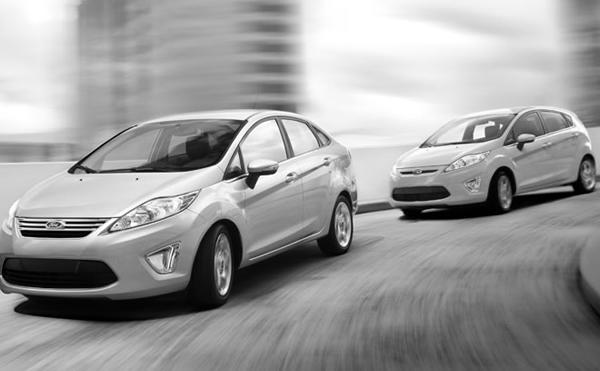car: (2, 109, 359, 310)
